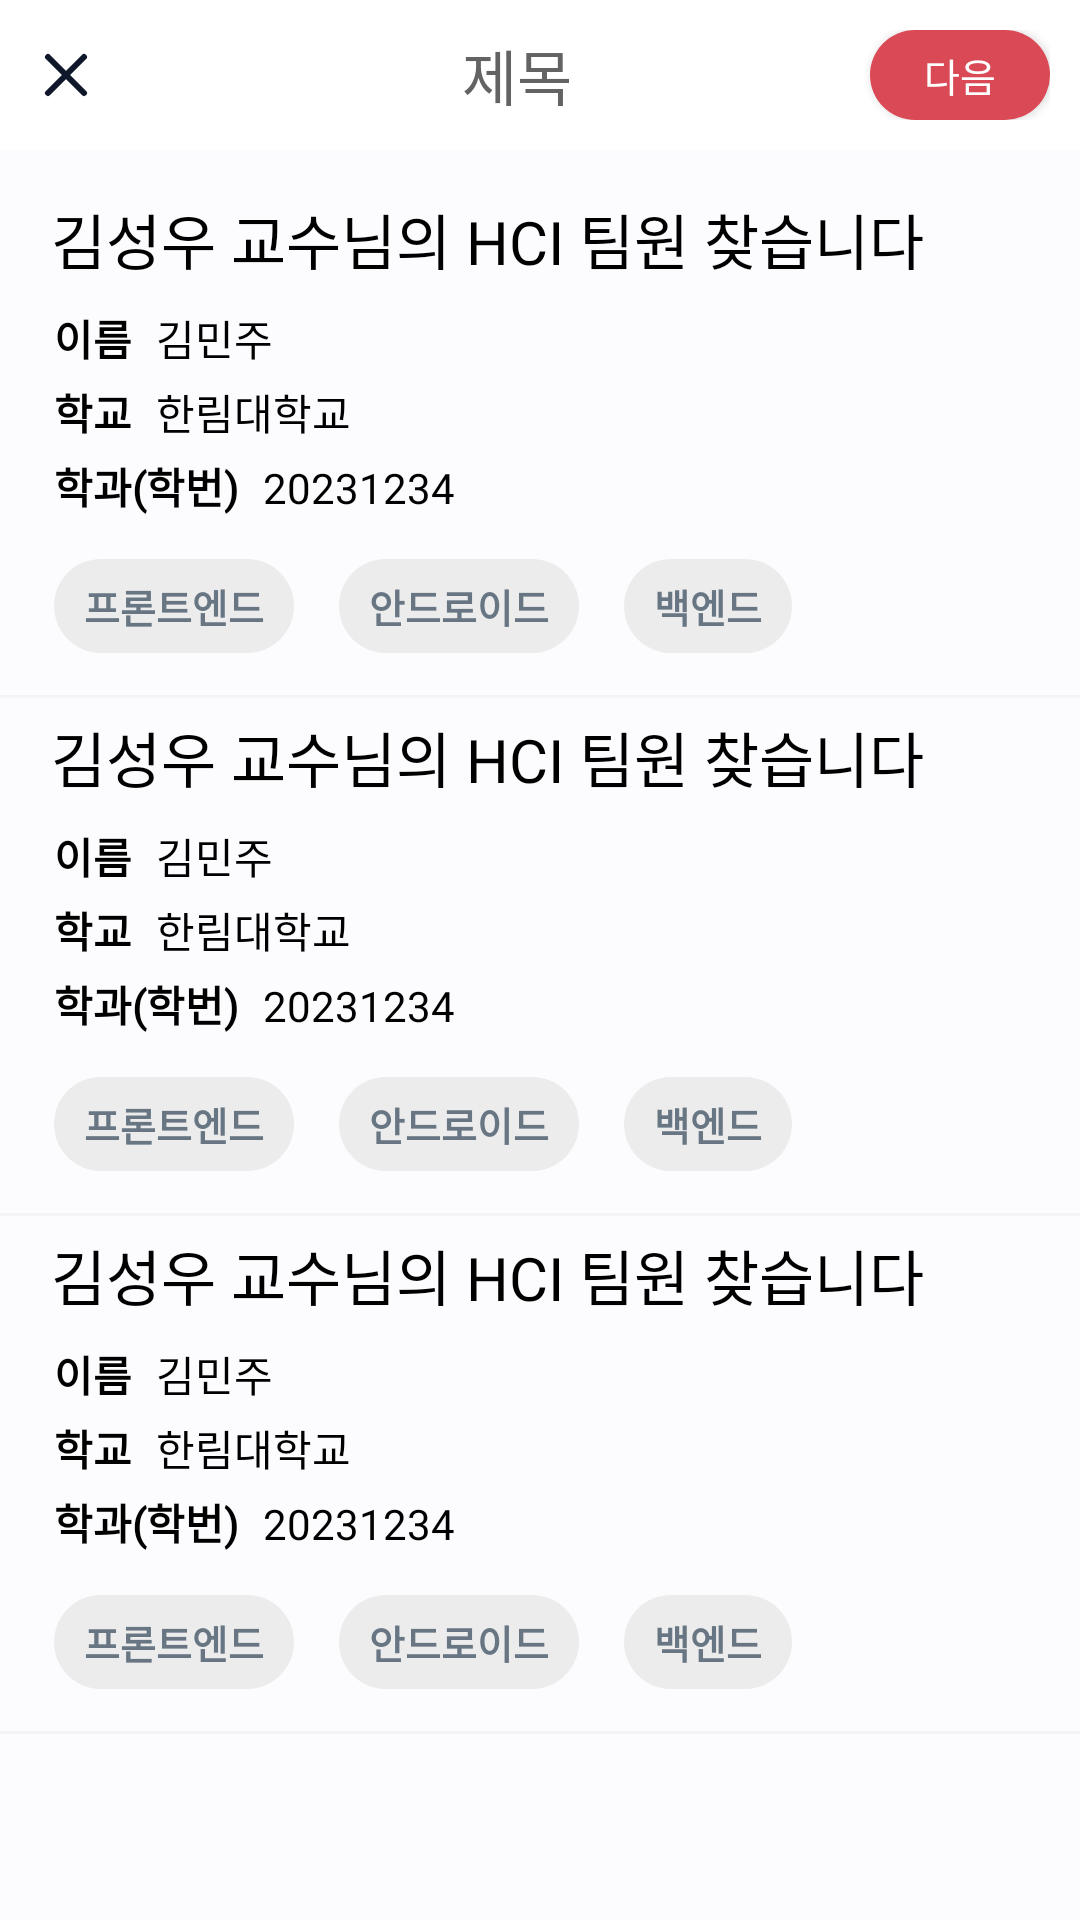

Named icons in this screenshot (1080*1920) and their centers, (x=x, y=y):
delete: (x=66, y=74)
